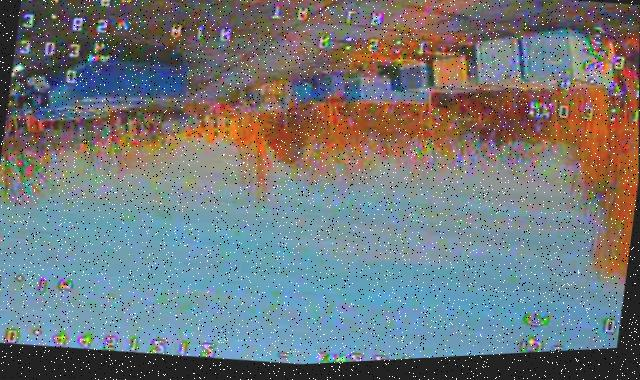truck: (11, 67, 164, 129)
